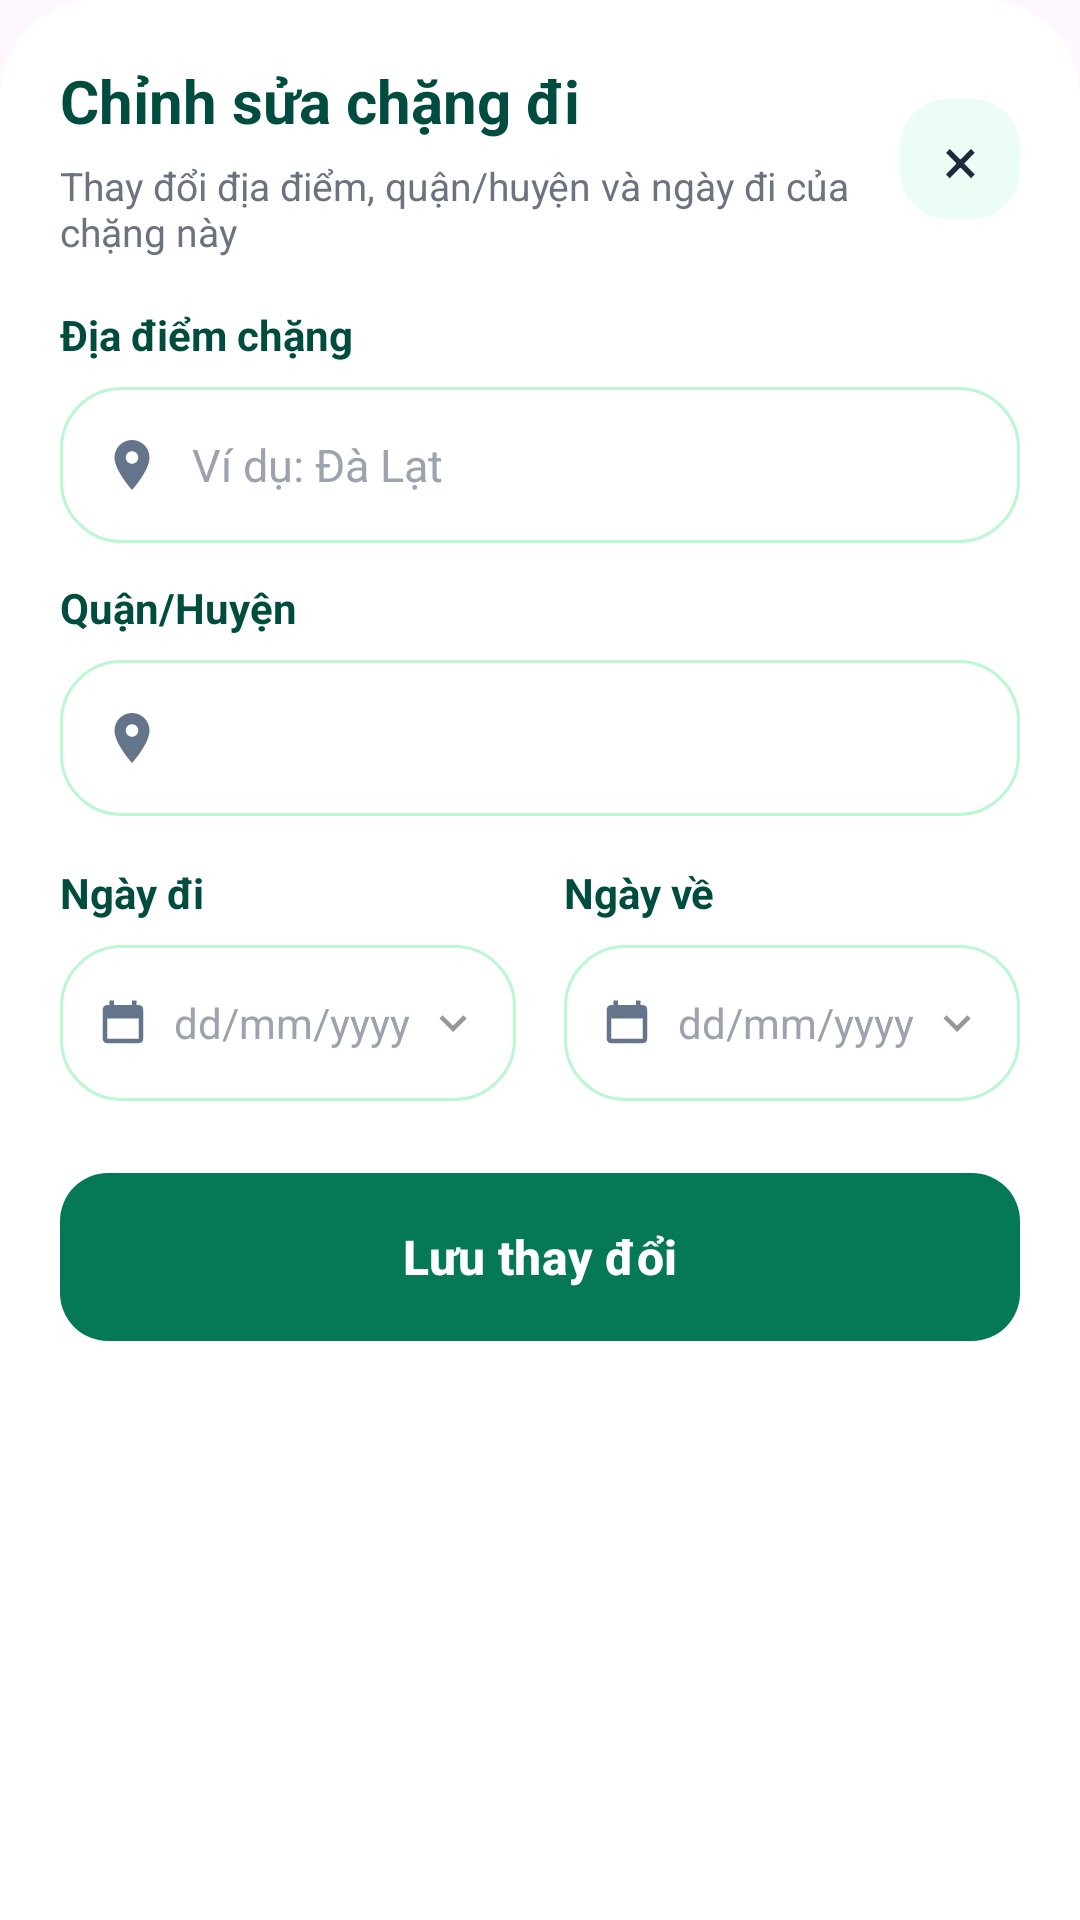

Where icons sit on this 1080*1920 app screen, as (left=x1, top=y1, right=x2, bottom=y2):
calendar: (left=102, top=1000, right=144, bottom=1044), (left=606, top=1000, right=648, bottom=1044)
chevron down: (left=439, top=1015, right=467, bottom=1032), (left=943, top=1015, right=971, bottom=1032)
pin: (left=114, top=440, right=150, bottom=490), (left=114, top=713, right=150, bottom=763)
